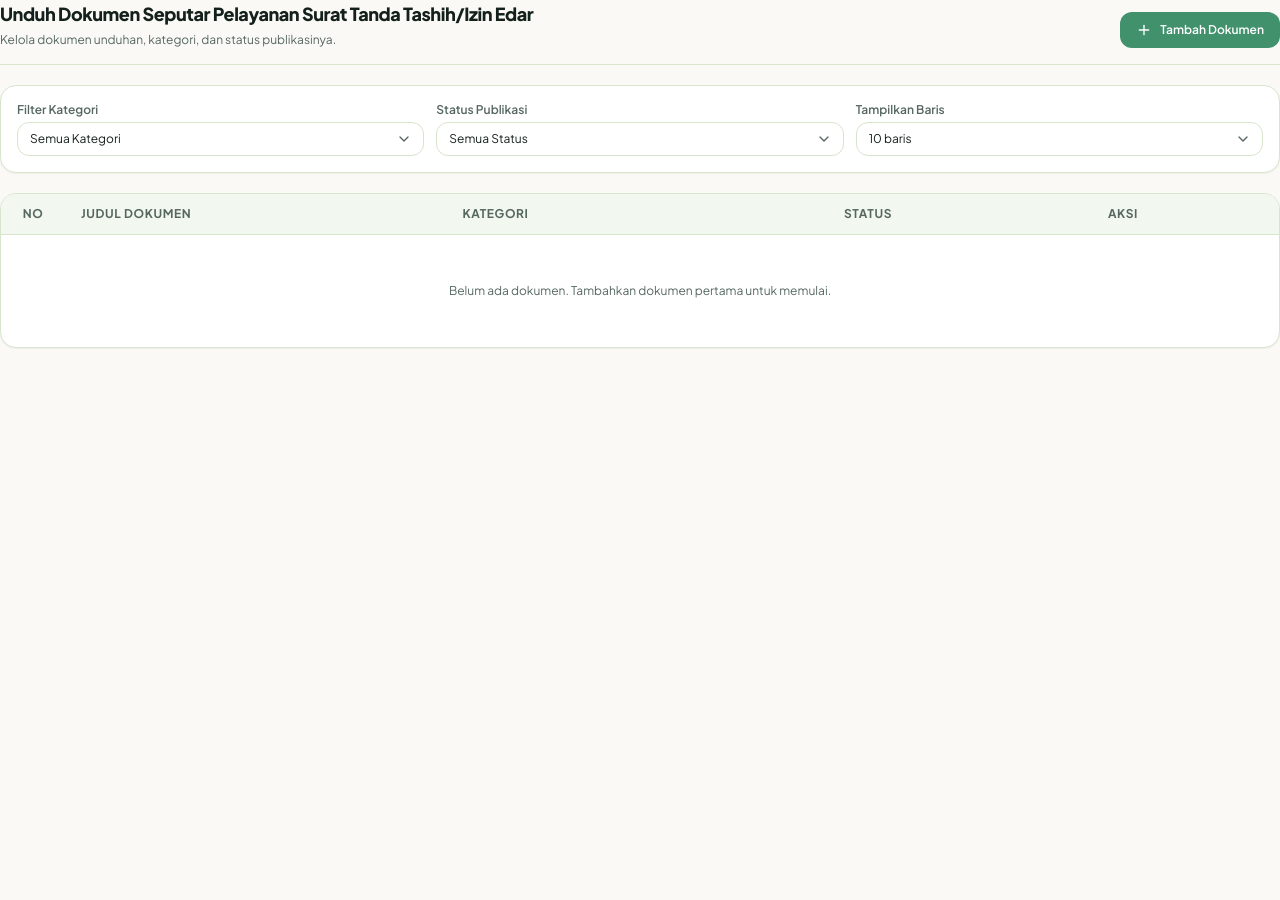
ServiceDocumentManagement › lists documents with publication controls and shows all six configured categories in the form
Expected: the column heading "Status" is shown, [828,194,967,234]
Click the button "Tambah Dokumen".
click(1200, 30)  # box [1120,12,1279,48]
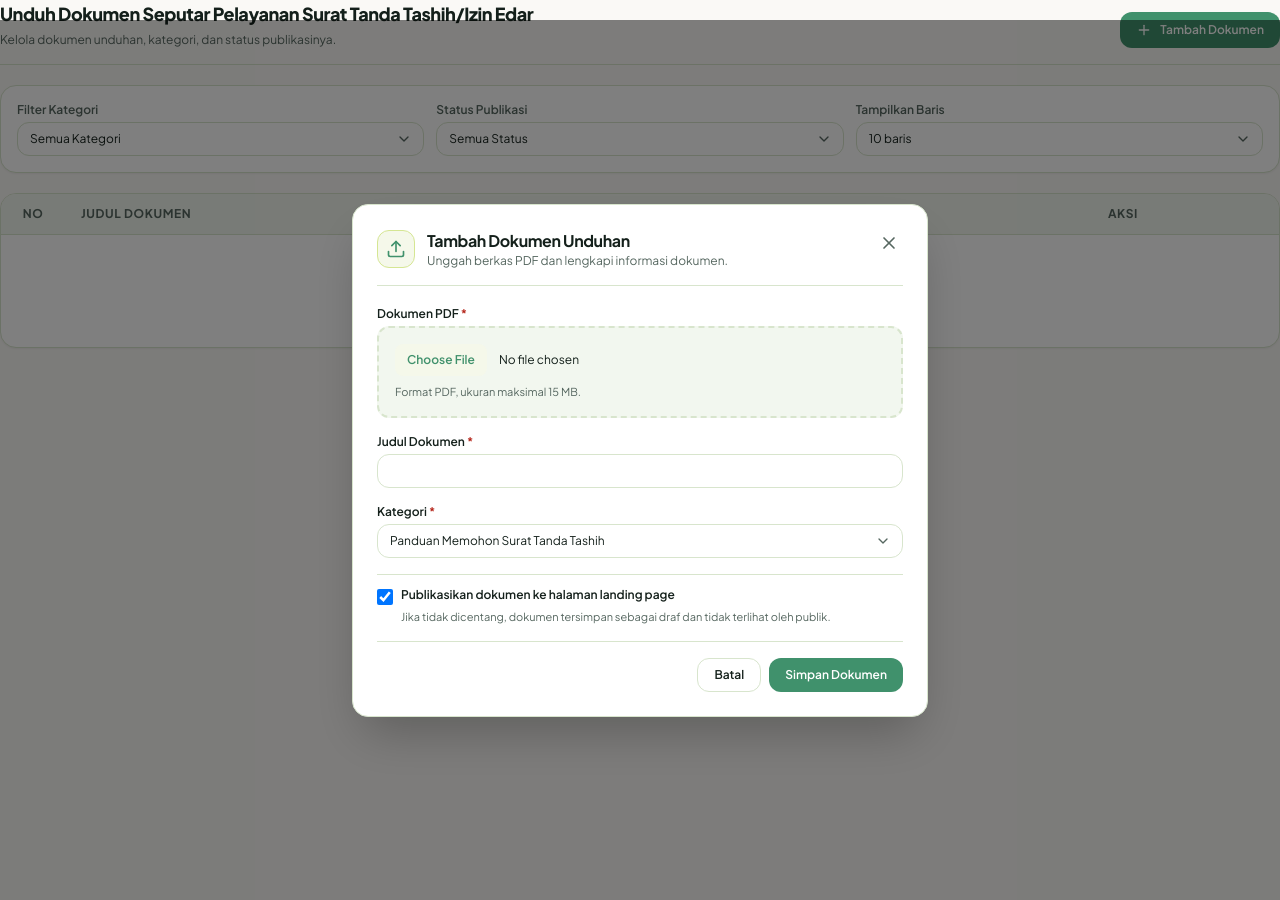
Now the file field labelled "Dokumen PDF *" is shown, box [395,344,885,376]
Now the field labelled "Judul Dokumen *" is shown, box [377,454,903,488]
Now the text "Publikasikan dokumen ke halaman landing page" is shown, box [401,586,675,602]
